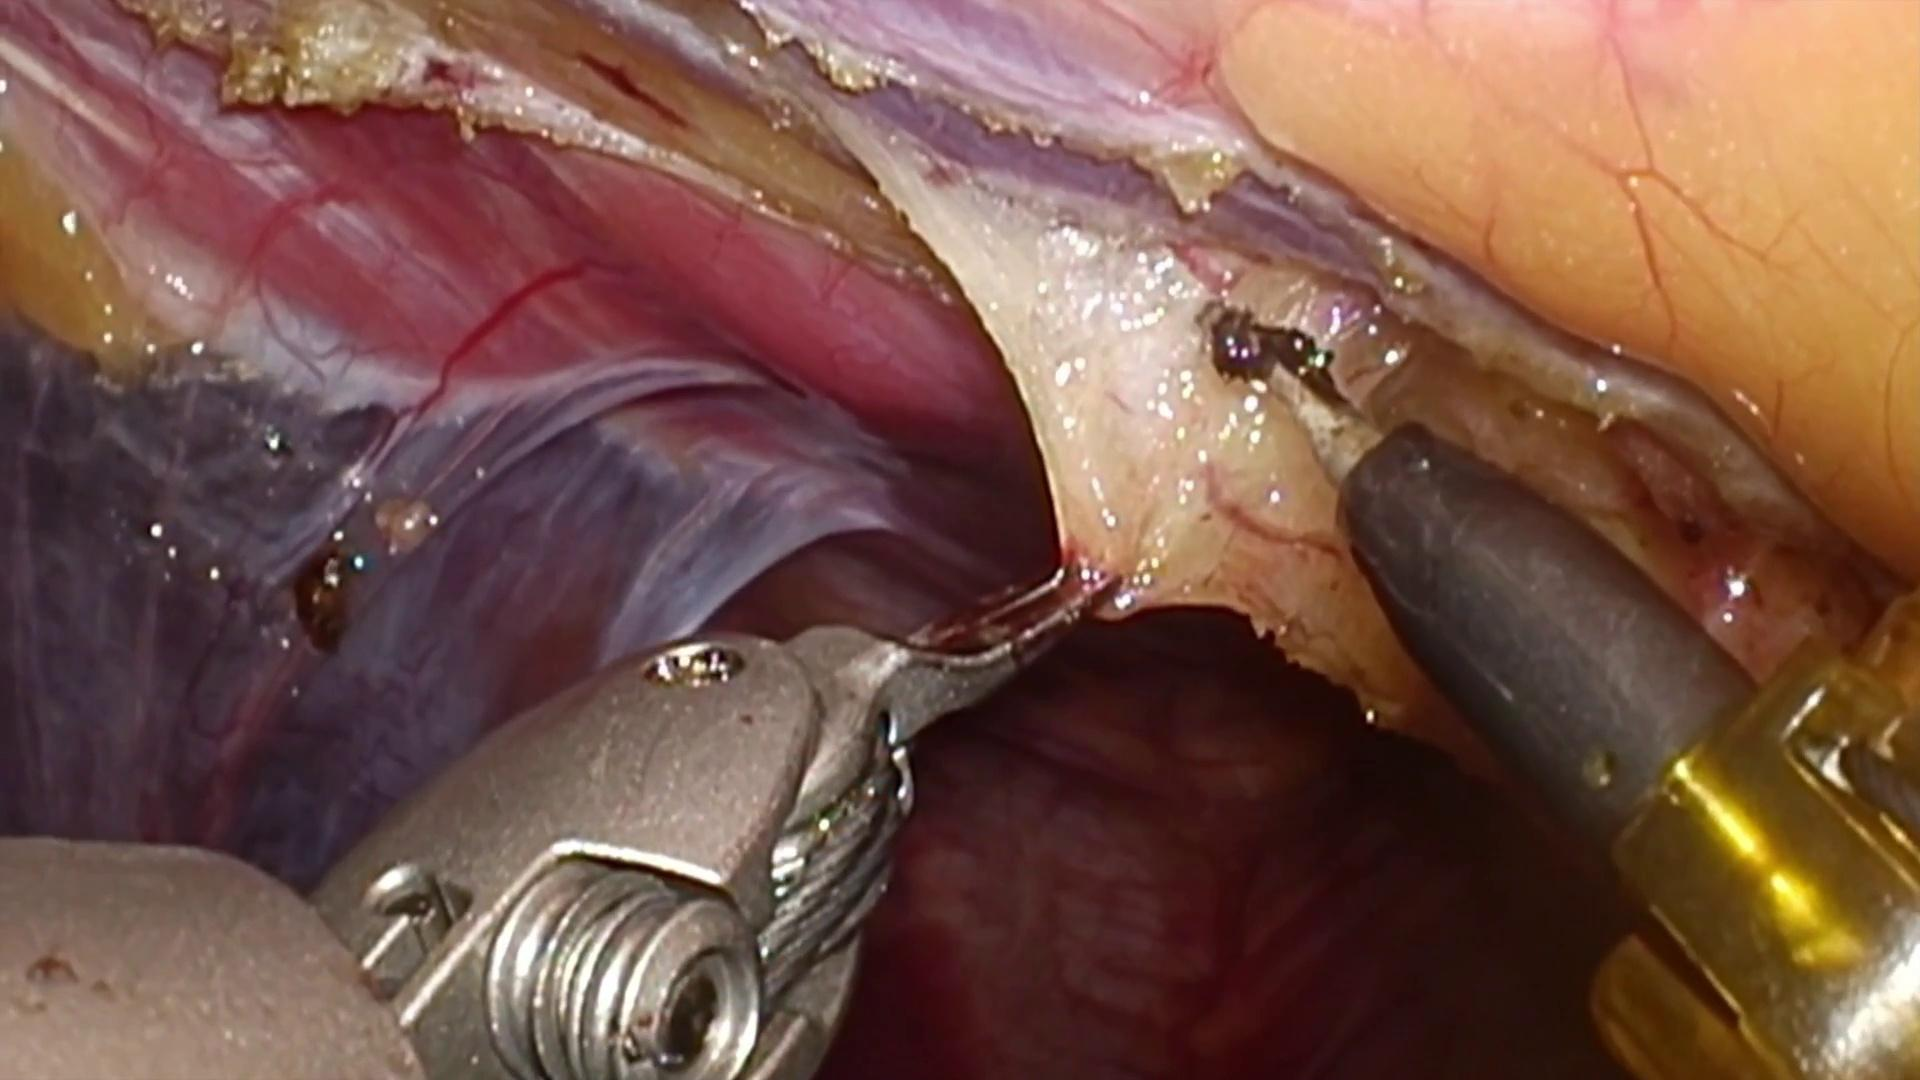Cautery_Spatula: (1208, 316, 1763, 886)
Debakey: (774, 491, 1146, 808)
